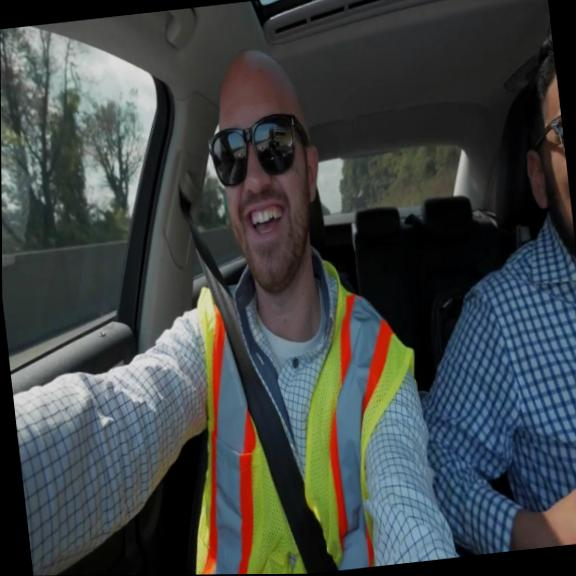safety_vest: (161, 248, 441, 575)
